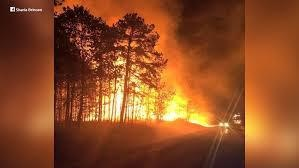fire: (89, 47, 226, 126)
